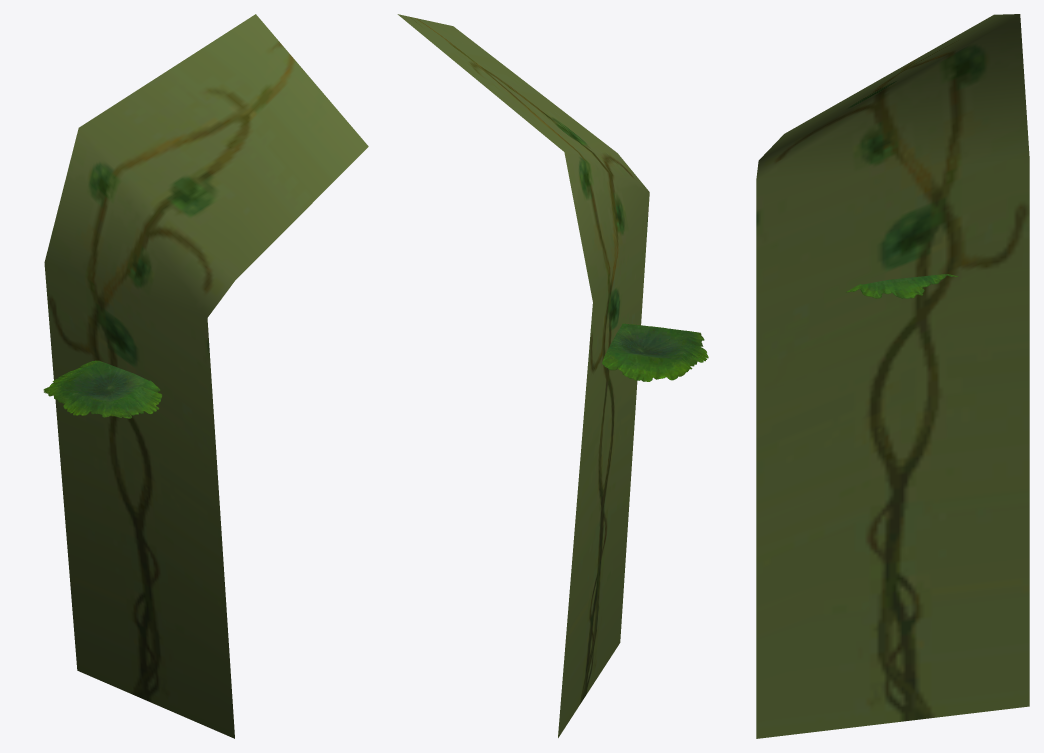
File: environment_Tree_heye_003_f.FBX
3 renders of one model, left to right at view 1: azimuth 30°, elevation 25°; view 2: azimuth 150°, elevation 25°; view 3: azimuth 270°, elevation 25°, orthographic. The views are drawn at different scales.
Parts seen in each view (by area): view 1: environment_Tree_heye_003_b, environment_Tree_heye_003_a; view 2: environment_Tree_heye_003_b, environment_Tree_heye_003_a; view 3: environment_Tree_heye_003_b, environment_Tree_heye_003_a.
Part boxes in pixels (x1,y1,x2,y2): environment_Tree_heye_003_b: (44, 14, 368, 738); environment_Tree_heye_003_a: (43, 360, 162, 418); environment_Tree_heye_003_b: (397, 14, 649, 737); environment_Tree_heye_003_a: (602, 323, 708, 381); environment_Tree_heye_003_b: (756, 14, 1029, 738); environment_Tree_heye_003_a: (846, 274, 958, 298).
Bounding box in the file's own units: 155 × 314 × 97.76.
Materials: 2 (2 with a texture image).
